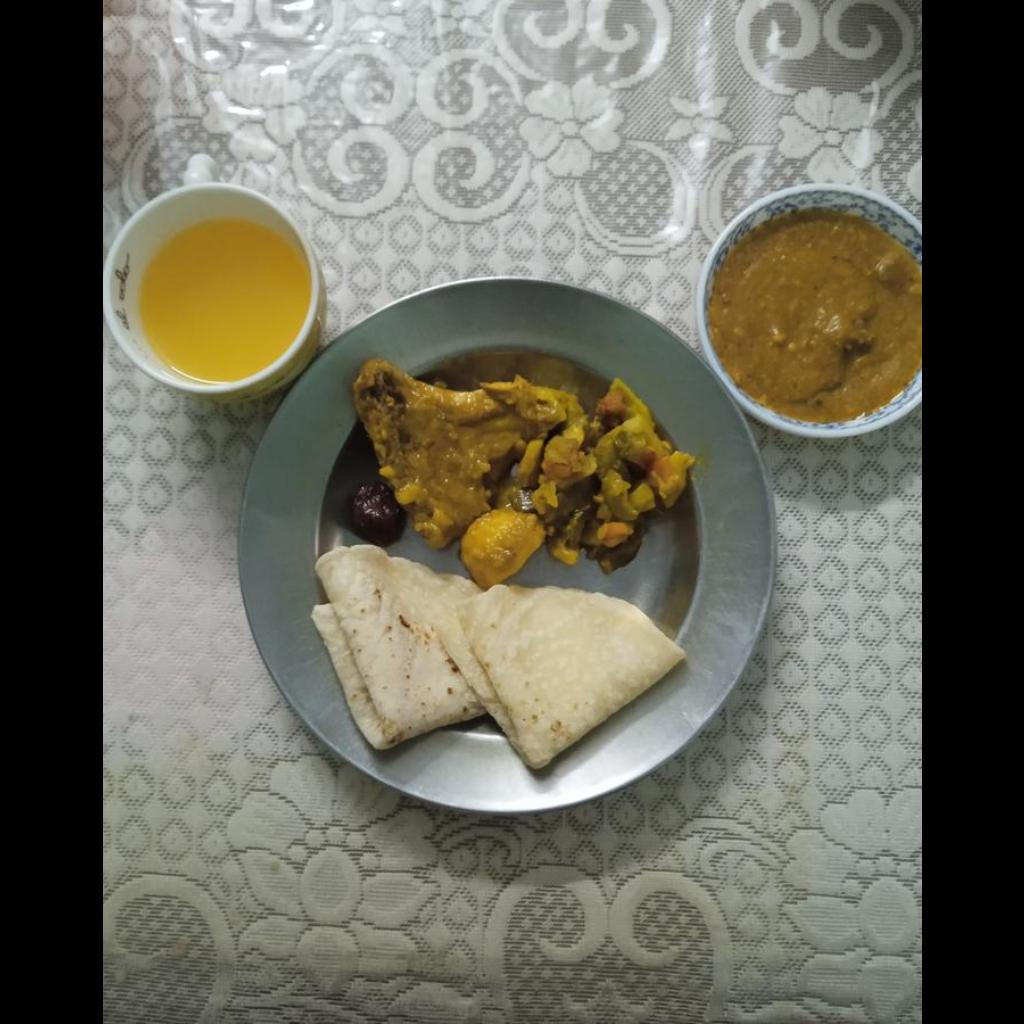chicken: (358, 362, 575, 542)
daal: (707, 209, 920, 425)
dates: (348, 478, 404, 546)
egg-boiled: (460, 509, 543, 588)
juice: (133, 229, 309, 380)
ruti: (311, 547, 682, 769)
vegetable: (512, 379, 694, 576)
